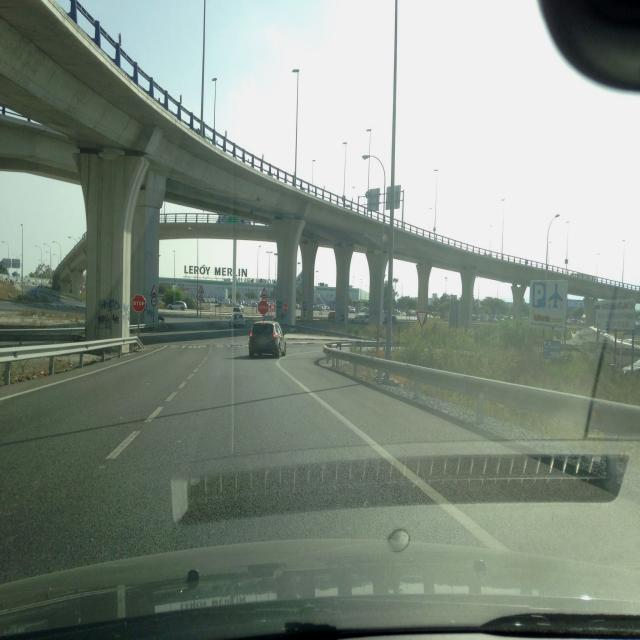car: (248, 320, 288, 359), (229, 310, 246, 329), (621, 359, 640, 375), (166, 301, 187, 310)
